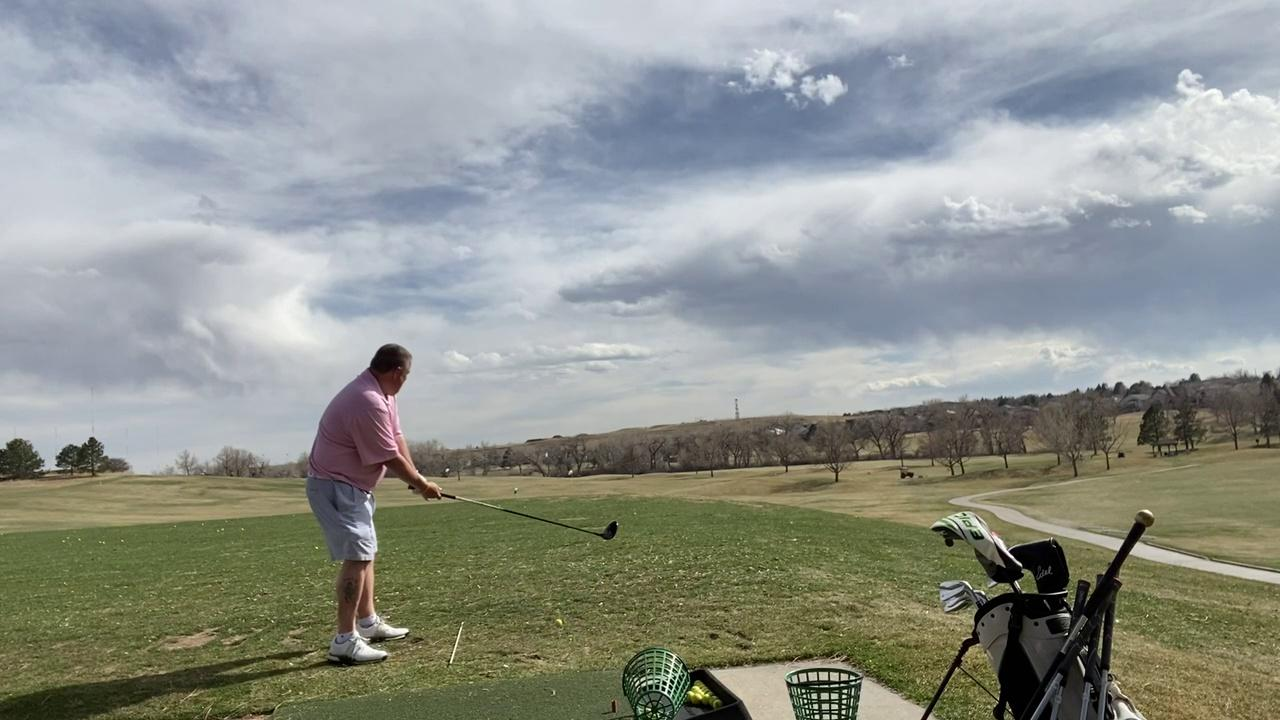ClubHead: (594, 522, 622, 544)
GolfBall: (551, 615, 567, 632)
